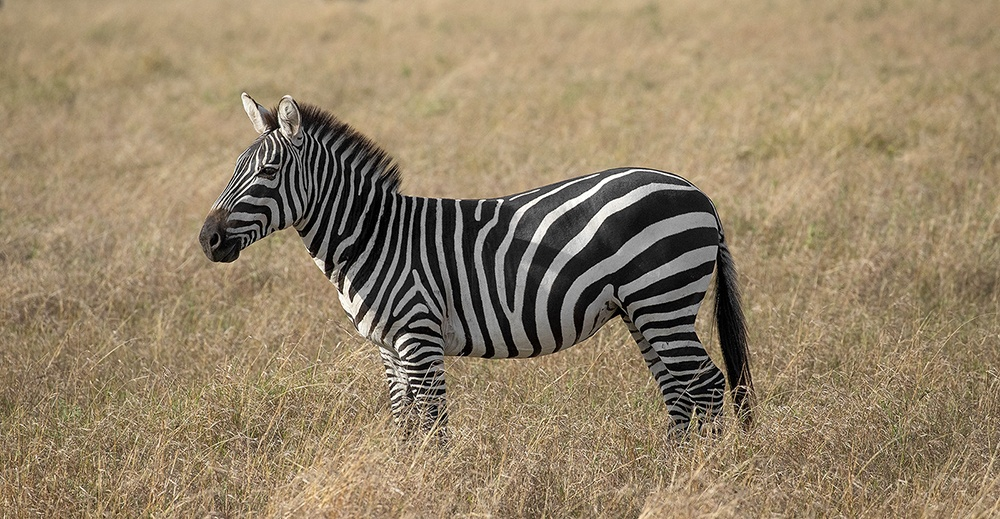zebra: (197, 92, 763, 448)
